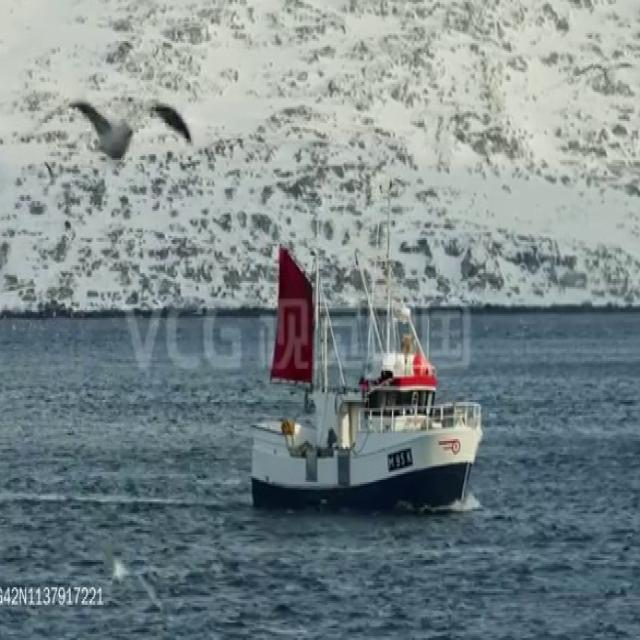houseboat: (250, 276, 485, 504)
